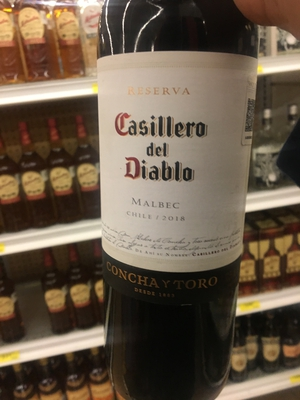casillero del diablo malbec: (90, 8, 265, 386)
